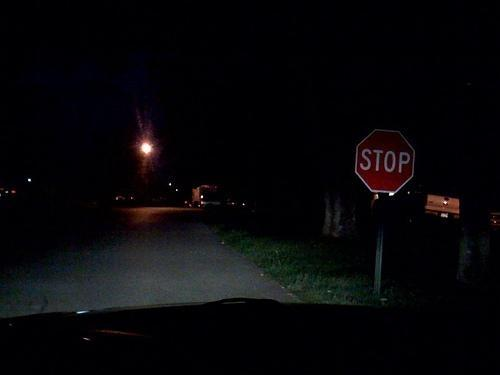car: (1, 295, 481, 370)
